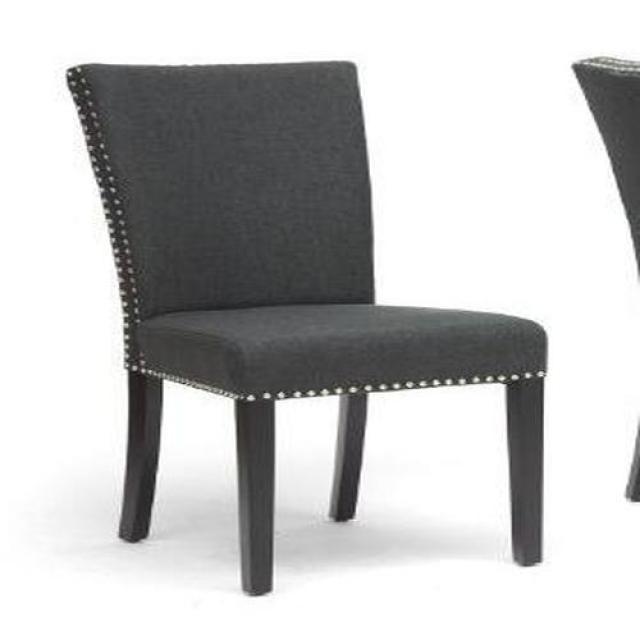chair: (67, 61, 548, 599)
